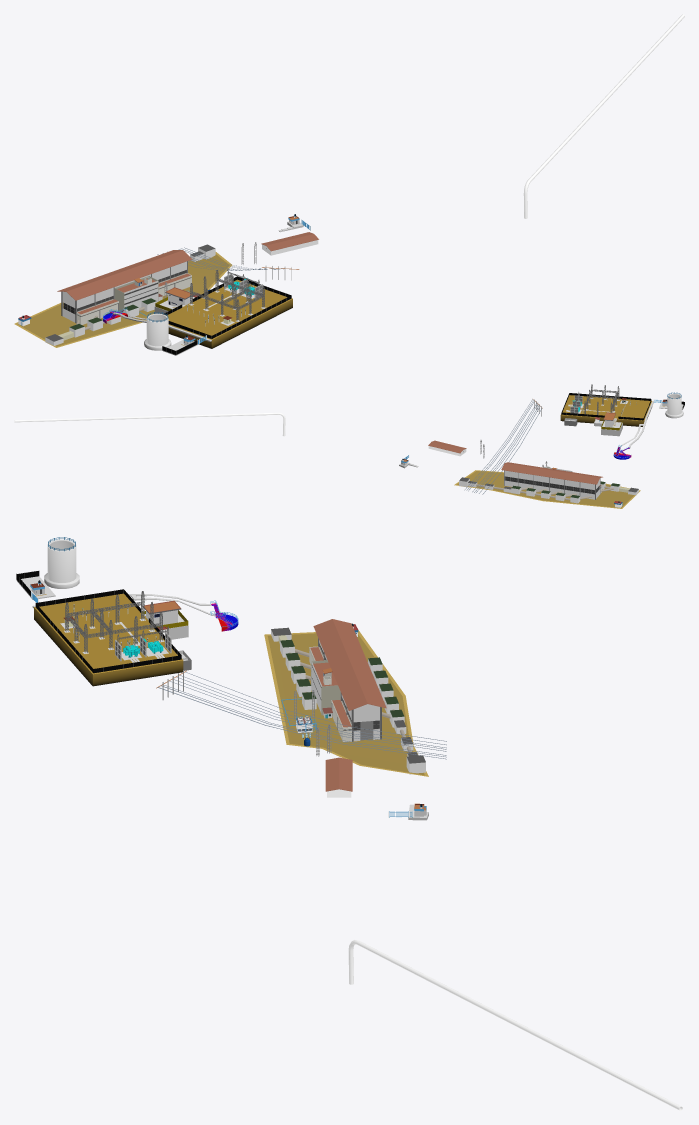
The model's file is Msh_Sitio_03.glb.
3 views of the same model, one above another, from view 1: azimuth 30°, elevation 25°; view 2: azimuth 150°, elevation 25°; view 3: azimuth 270°, elevation 25° (orthographic). The views are drawn at different scales.
Parts seen in each view (by area): view 1: Sitio_Electrico, Sitio_Bombeo, Piso; view 2: Sitio_Electrico, Sitio_Bombeo, Piso; view 3: Sitio_Electrico, Sitio_Bombeo, Piso.
Part boxes in pixels (<box>): Sitio_Electrico: <box>18,14,684,345</box>; Sitio_Bombeo: <box>103,269,292,355</box>; Piso: <box>14,252,232,347</box>; Sitio_Electrico: <box>14,399,638,507</box>; Sitio_Bombeo: <box>560,384,684,459</box>; Piso: <box>454,470,640,508</box>; Sitio_Electrico: <box>156,619,682,1110</box>; Sitio_Bombeo: <box>16,537,238,686</box>; Piso: <box>264,630,428,776</box>.
Size of the model in its own units: 503 by 59.47 by 275.
